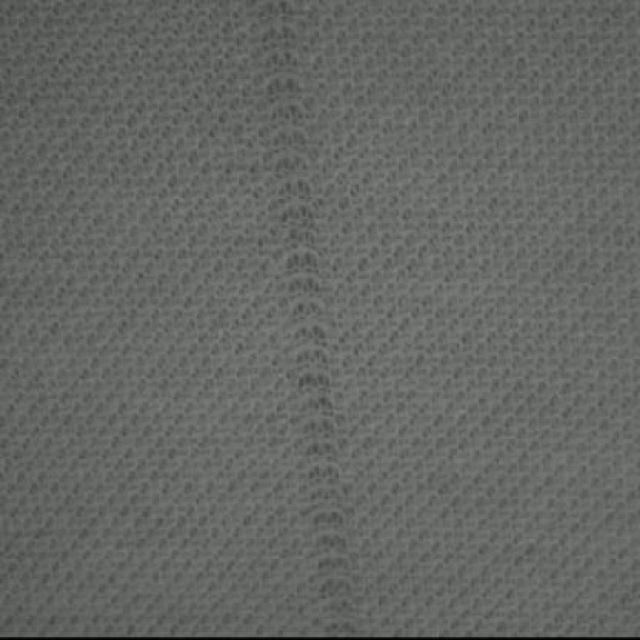Line: (257, 1, 358, 637)
